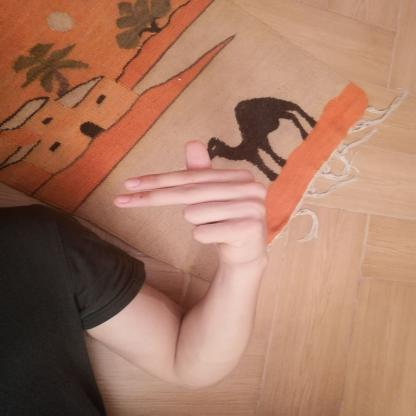GHAYN: (100, 135, 282, 273)
